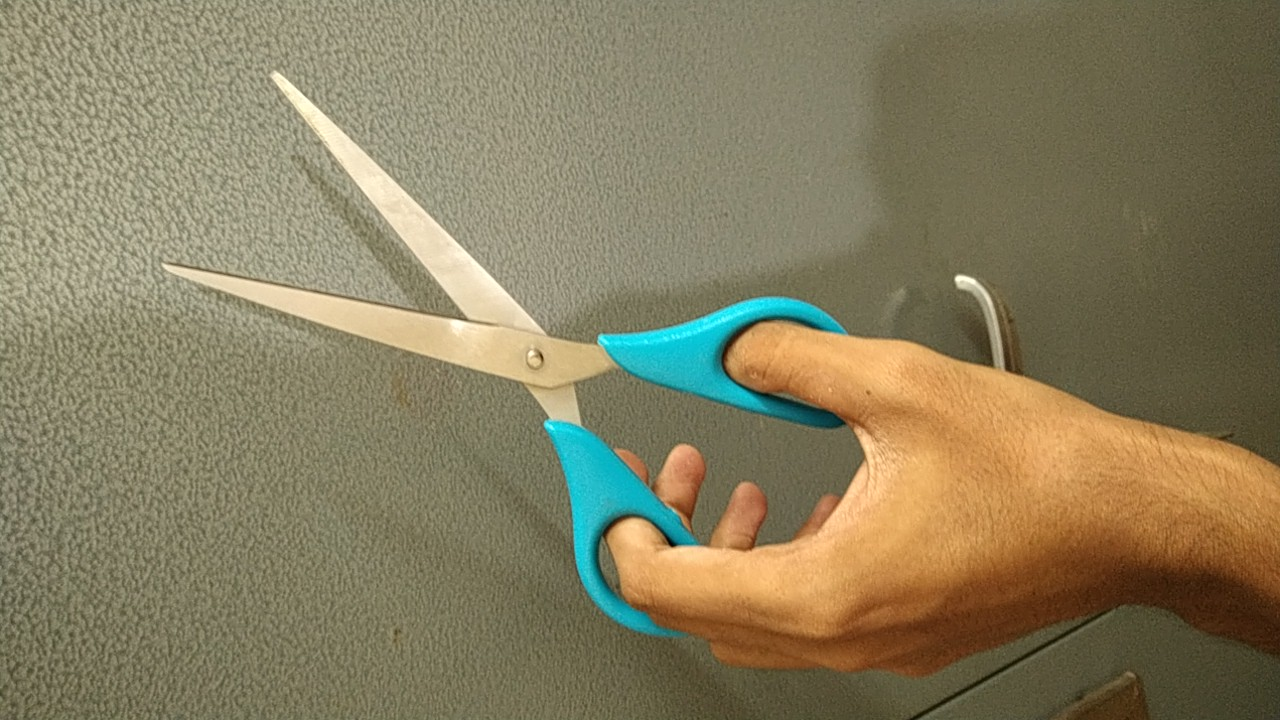scissor: (145, 41, 875, 671)
